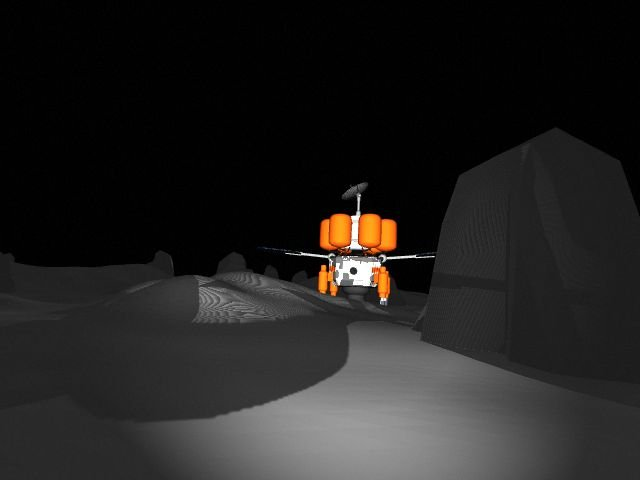homebase: (250, 180, 449, 308)
